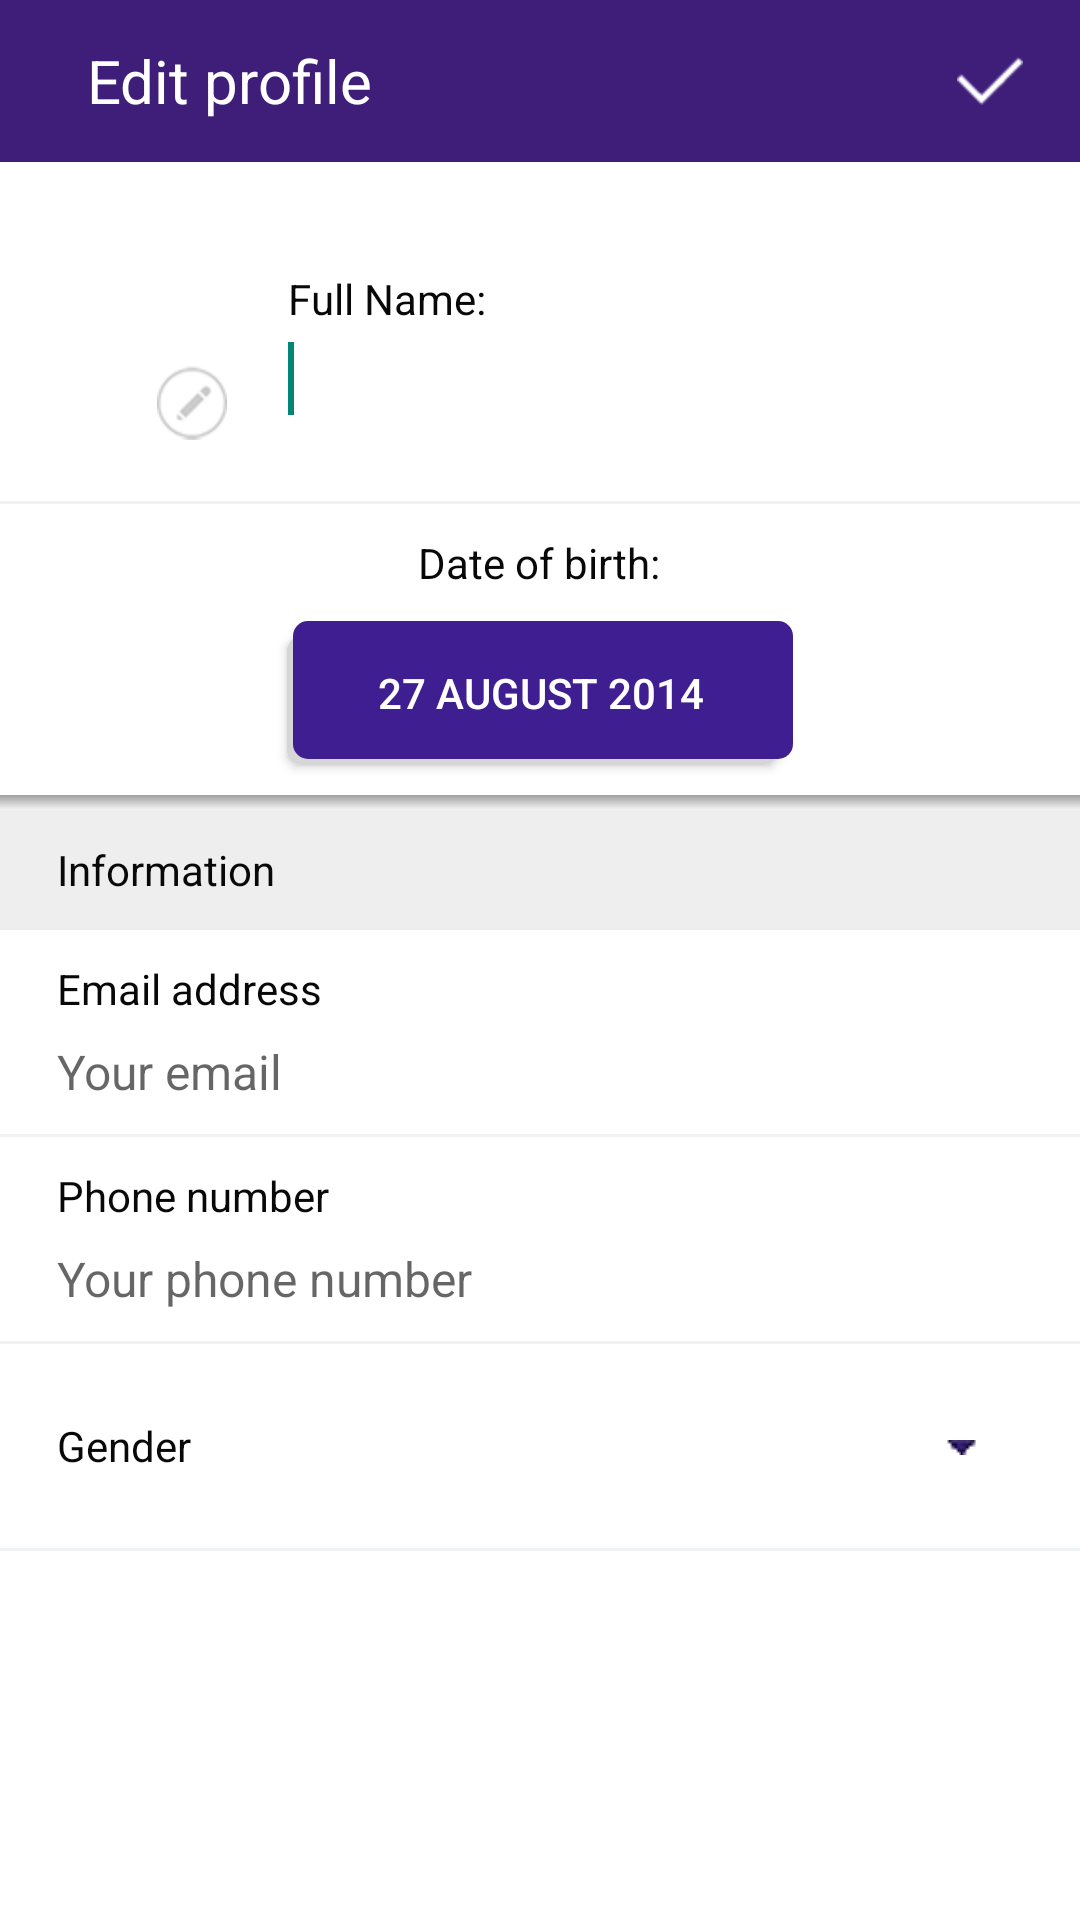

Where icons sit on this 1080px x 1920px app screen, as (x1, y1, x2, y2):
edit profile: (157, 368, 227, 440)
ok on: (957, 58, 1023, 105)
